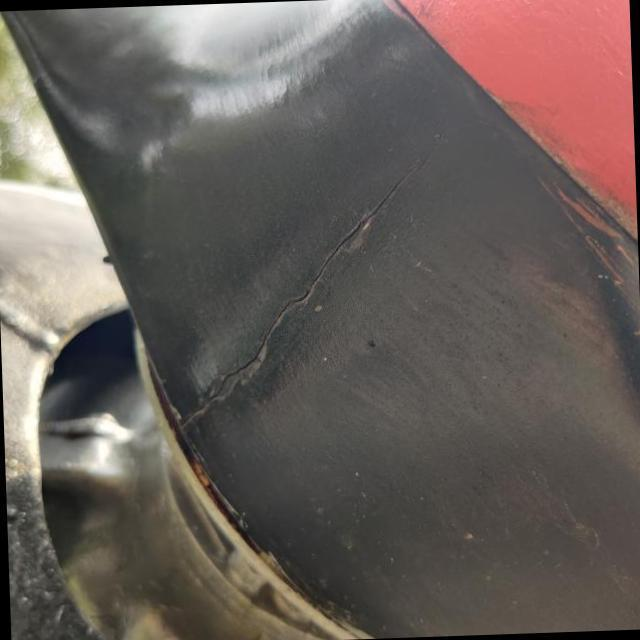Rupture: (162, 146, 462, 438)
